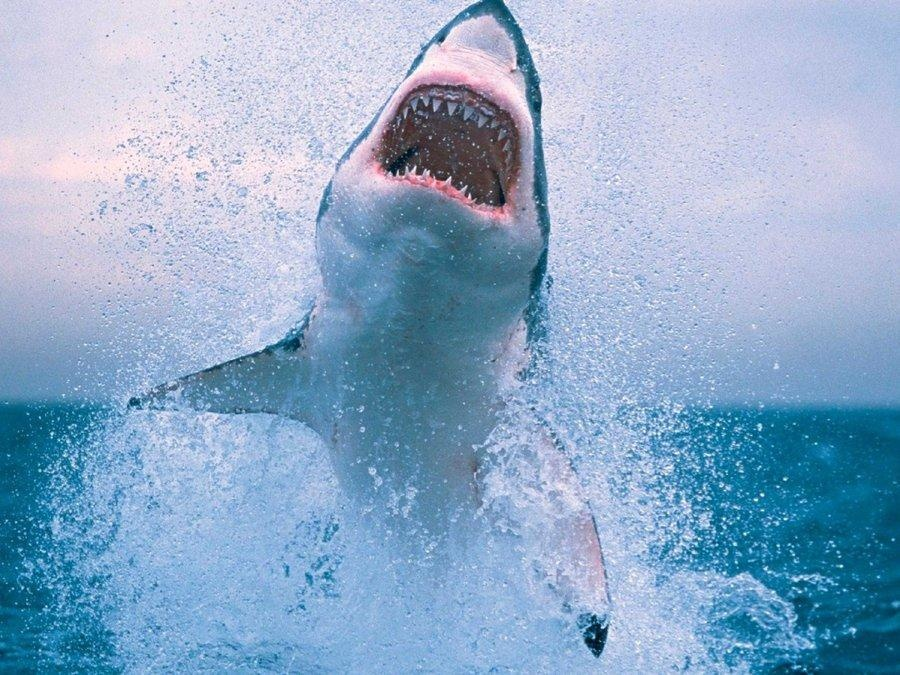fish: (134, 1, 612, 660)
